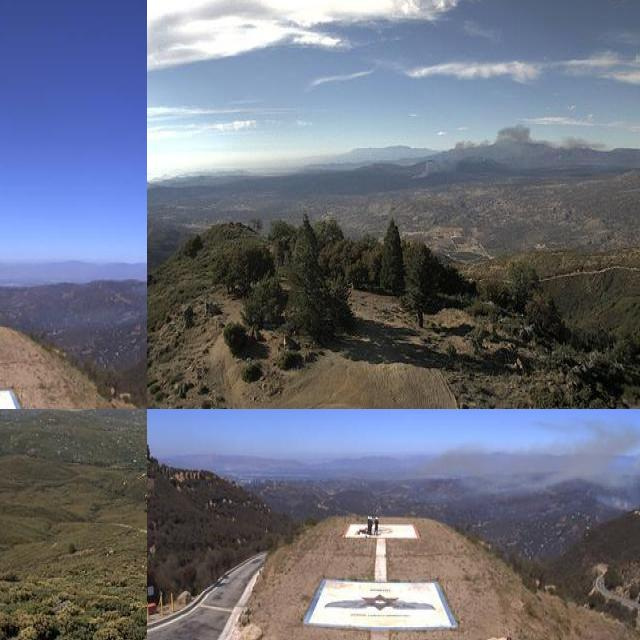smoke: (400, 120, 587, 183), (512, 417, 640, 507)
